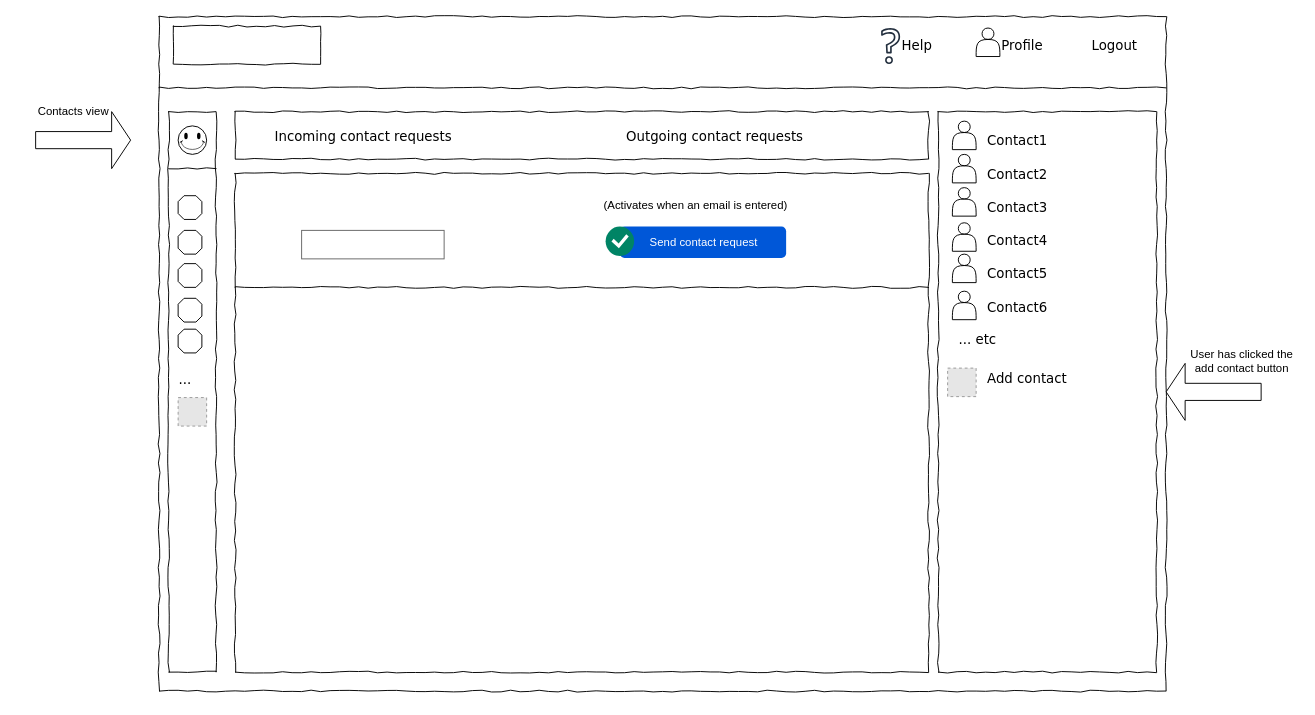
Some shapes in this 1315 by 715 pixel diagram are drawn without their labels. Grey dashed boxes stand in for pictures. The centre of each missing label's shape, as x and y in pixels:
enter email: the point at 372,244
LOGO: the point at 246,44
